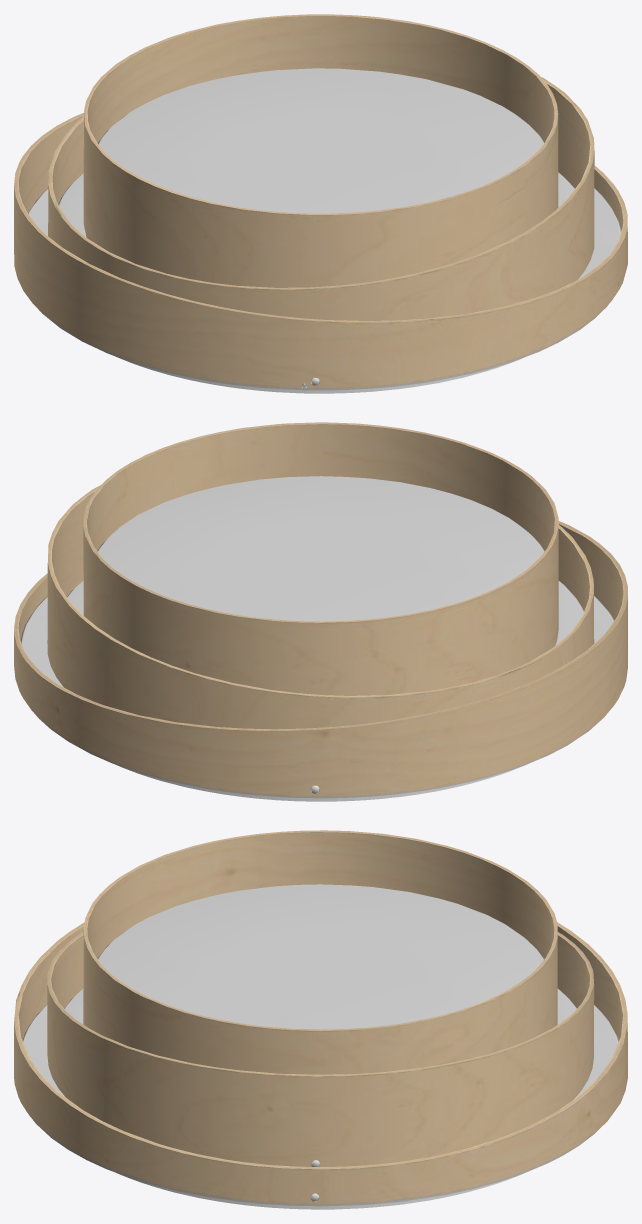
The model's file is nosund_lampa_sufitowa_20404887.glb.
The picture shows the model from 3 angles, top to bottom: view 1: azimuth 30°, elevation 25°; view 2: azimuth 150°, elevation 25°; view 3: azimuth 270°, elevation 25°; orthographic projection.
Parts seen in each view (by area): view 1: nosund_lampa_sufitowa_20404887; view 2: nosund_lampa_sufitowa_20404887; view 3: nosund_lampa_sufitowa_20404887.
Part boxes in pixels (x1,y1,x2,y2): nosund_lampa_sufitowa_20404887: [14, 14, 627, 393]; nosund_lampa_sufitowa_20404887: [14, 422, 627, 801]; nosund_lampa_sufitowa_20404887: [14, 830, 627, 1209].
Size of the model in its own units: 0.441 by 0.1304 by 0.44.
Materials: 2 (2 with a texture image).
